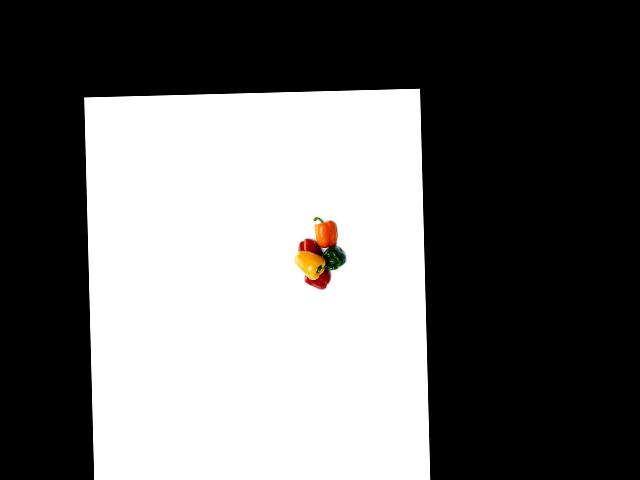bell_pepper: (315, 244, 350, 276)
